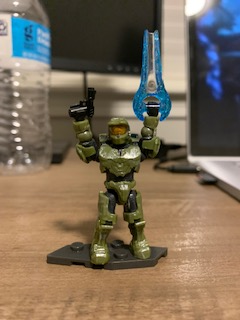chief: (68, 100, 161, 262)
pistol: (67, 87, 97, 122)
spartan: (66, 98, 159, 260)
up: (66, 103, 162, 178)
